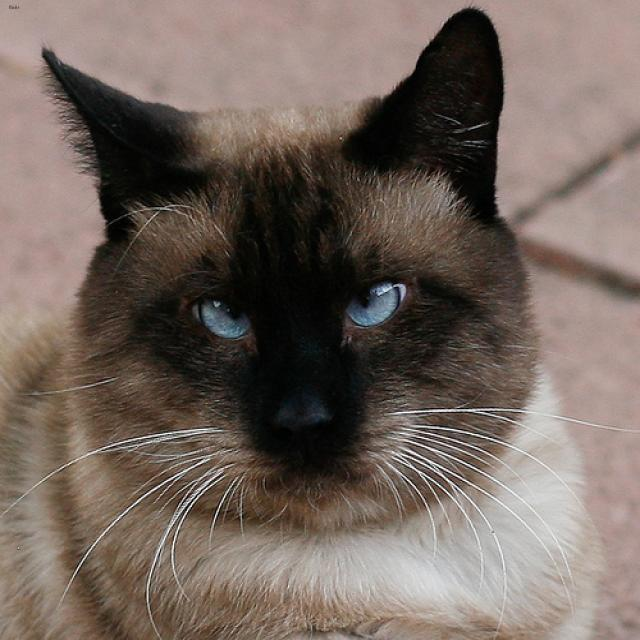Siamese: (41, 5, 544, 538)
